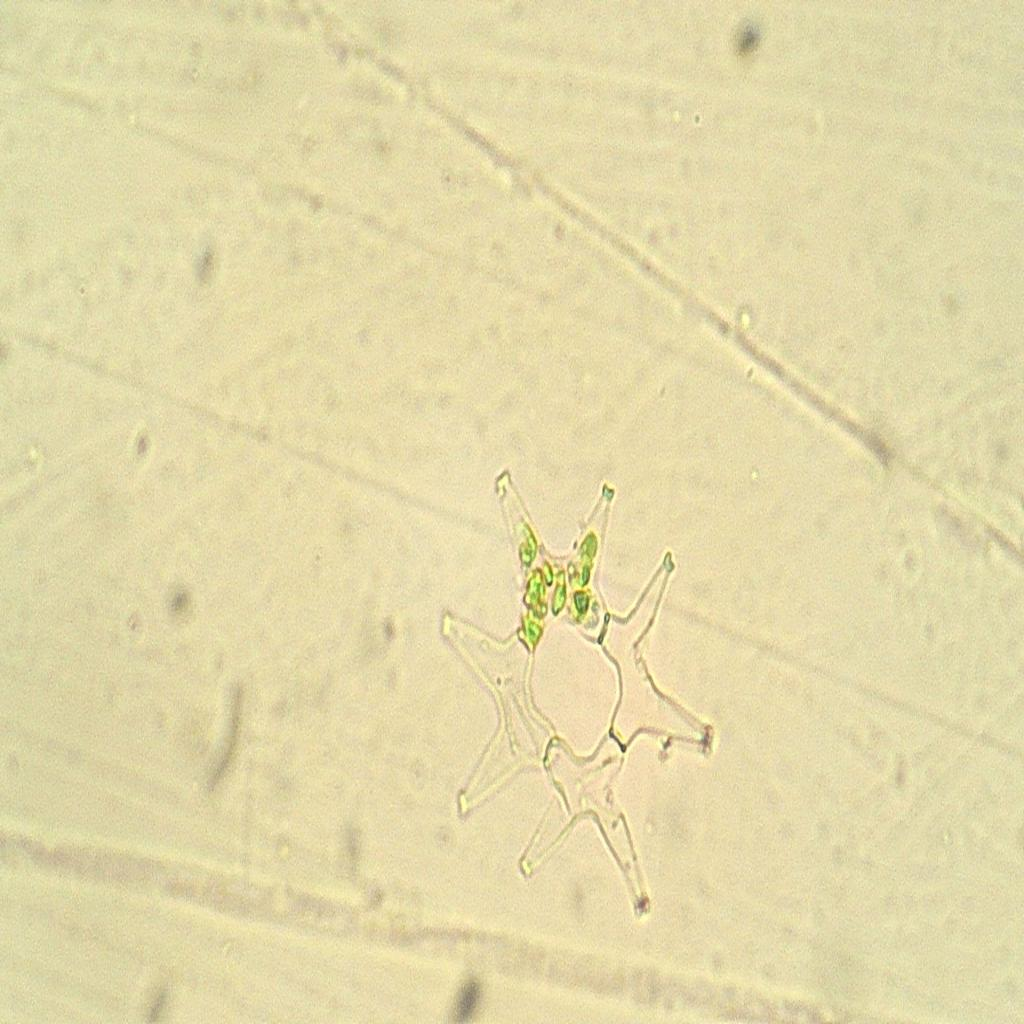Pediastrum_1F0: (418, 402, 734, 958)
